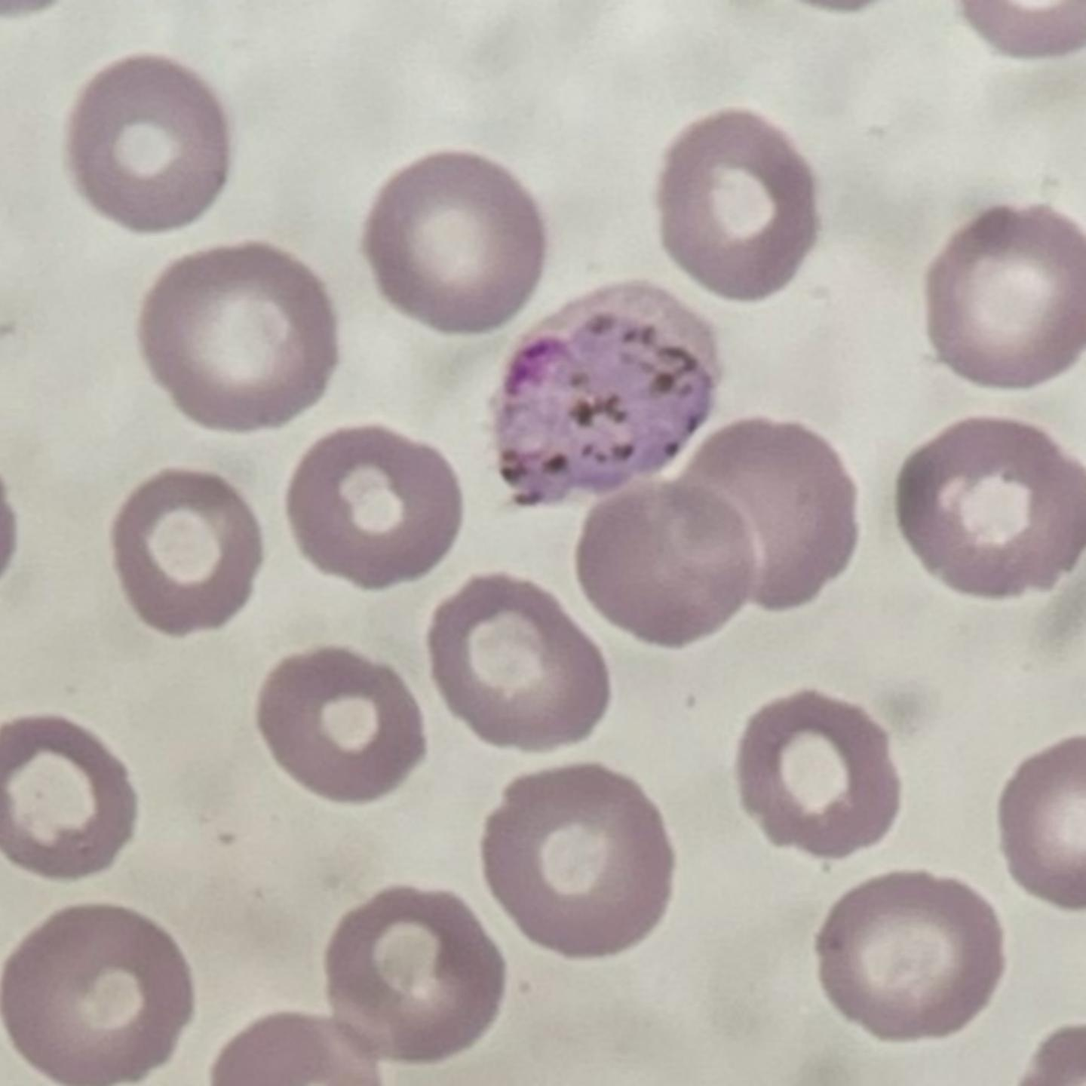Infected: (493, 282, 721, 516)
Uninfected: (890, 406, 1086, 600), (141, 247, 342, 432), (483, 768, 667, 960), (432, 569, 617, 759), (357, 154, 550, 333), (329, 886, 516, 1064), (807, 871, 1001, 1037), (5, 906, 184, 1084), (694, 418, 855, 613), (73, 49, 230, 241), (654, 111, 818, 294), (920, 207, 1086, 383), (254, 649, 439, 806), (116, 464, 275, 645), (581, 484, 759, 642), (284, 428, 463, 581), (734, 695, 897, 858), (0, 715, 169, 861)
